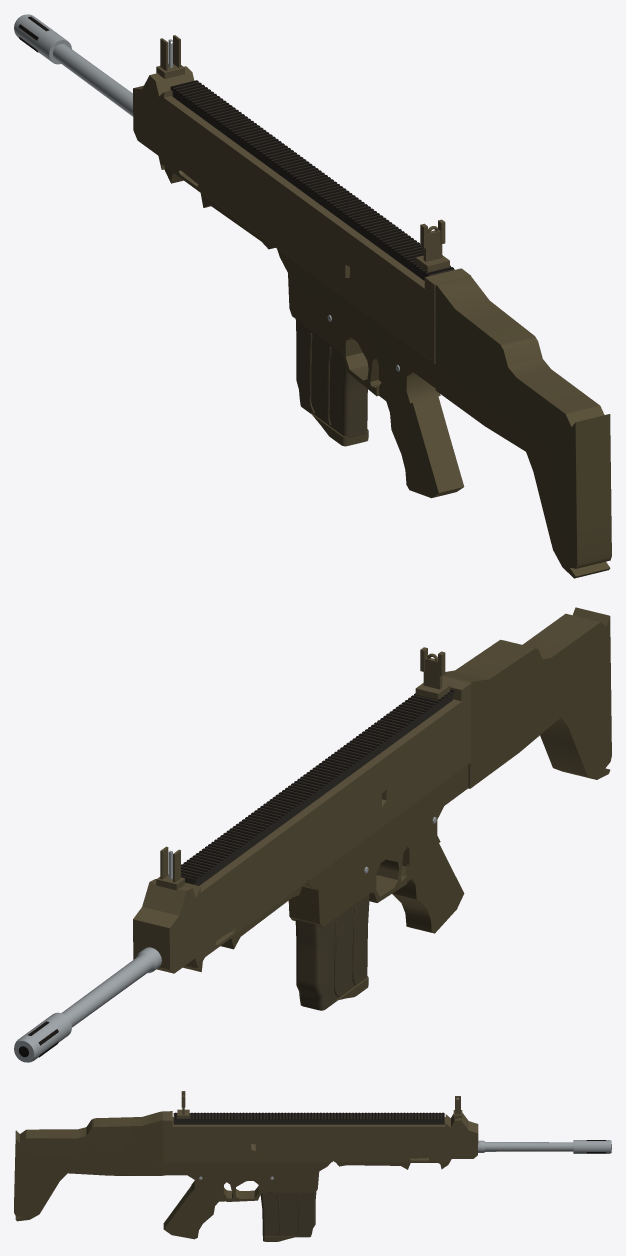
File: ar-mald.glb
3 views of the same model, one above another, from view 1: azimuth 30°, elevation 25°; view 2: azimuth 150°, elevation 25°; view 3: azimuth 270°, elevation 25° (orthographic). The views are drawn at different scales.
Visible parts, largest first — view 1: SC_Body, SC_Mag, SC_Hider, SC_IronRear, SC_IronFront; view 2: SC_Body, SC_Mag, SC_Hider, SC_IronRear, SC_IronFront; view 3: SC_Body, SC_Mag, SC_Hider.
Boxes of the visible parts, x1,y1,x2,y2 form: SC_Body: [53, 43, 611, 578]; SC_Mag: [295, 319, 368, 446]; SC_Hider: [14, 14, 71, 64]; SC_IronRear: [415, 219, 449, 272]; SC_IronFront: [156, 35, 184, 78]; SC_Body: [61, 607, 611, 1027]; SC_Mag: [295, 894, 369, 1010]; SC_Hider: [14, 1012, 71, 1062]; SC_IronRear: [415, 647, 449, 699]; SC_IronFront: [156, 846, 184, 890]; SC_Body: [14, 1111, 573, 1239]; SC_Mag: [260, 1191, 316, 1241]; SC_Hider: [573, 1140, 611, 1153].
Size of the model in its own units: 0.0378 by 0.2577 by 0.9654.
